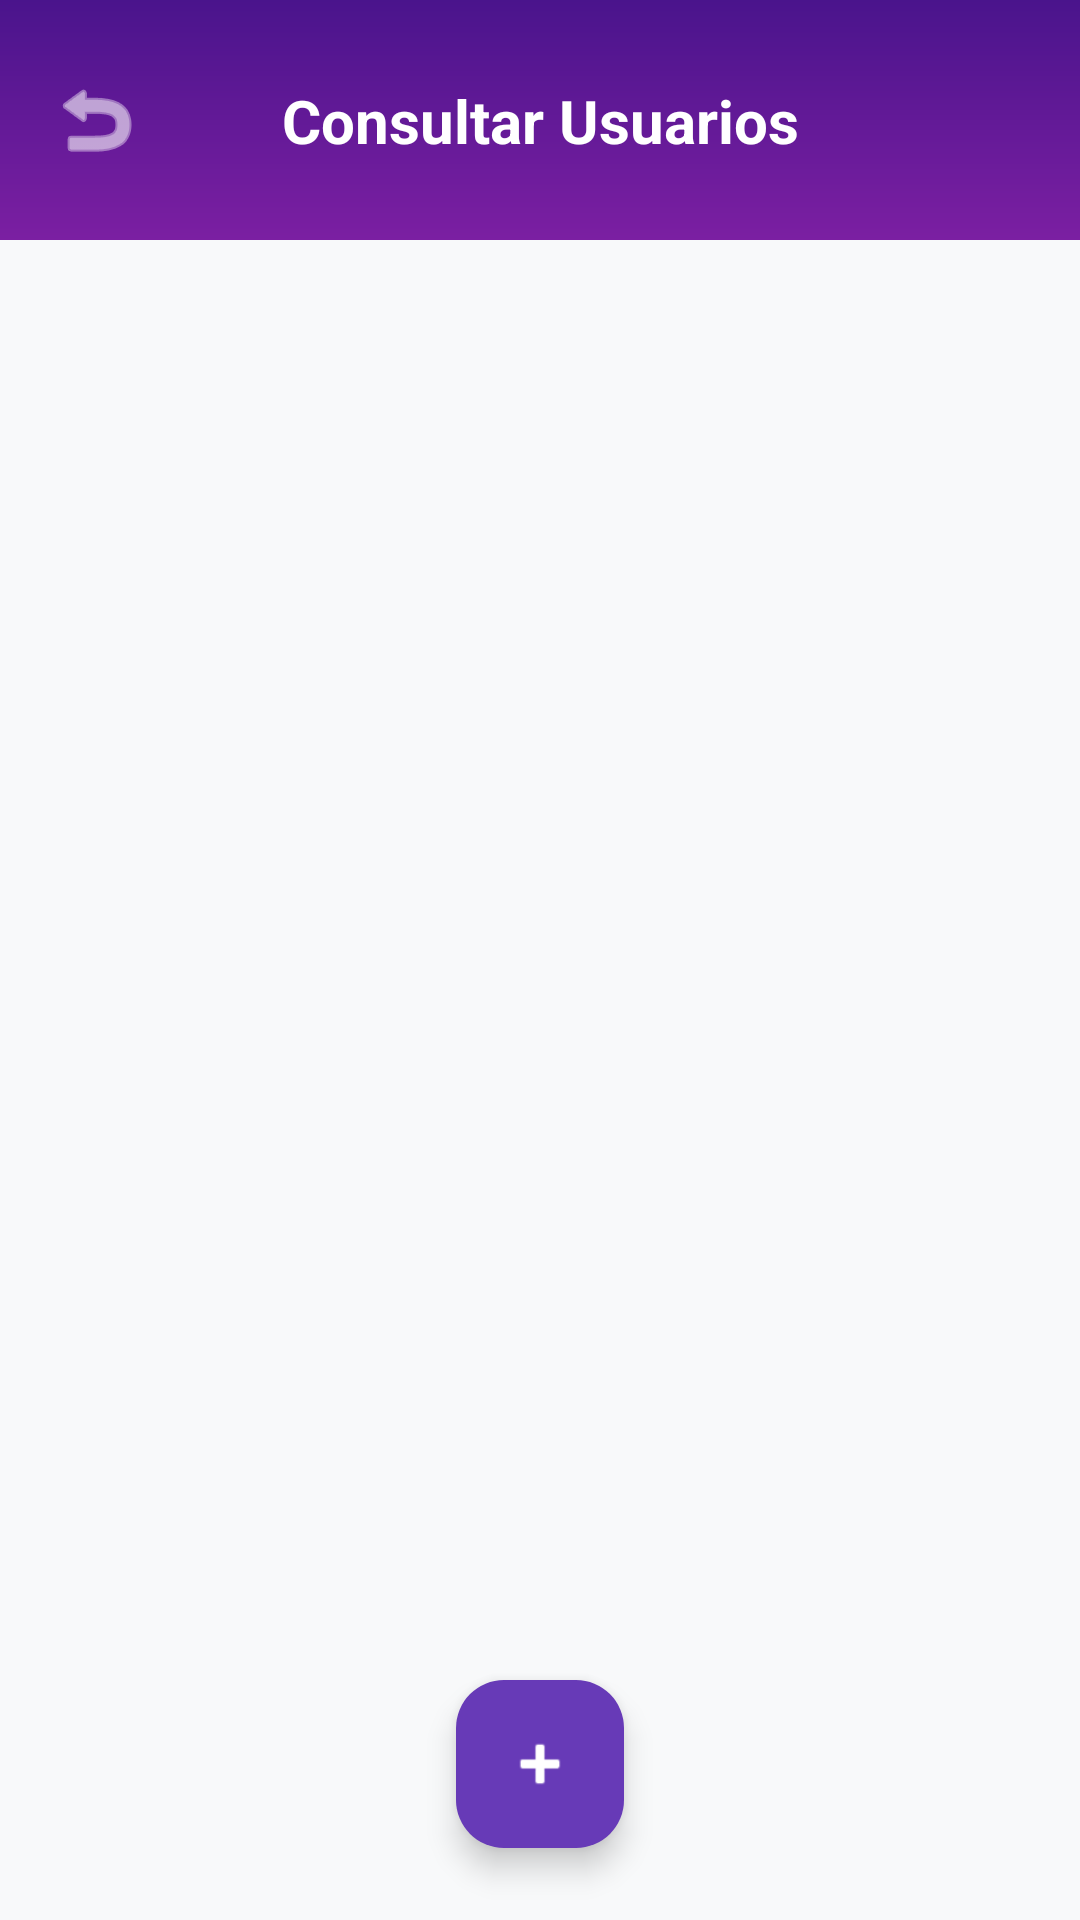

Icons on this 1080px×1920px Android screen, each with the point to tap as (x,y):
add: (540,1764)
